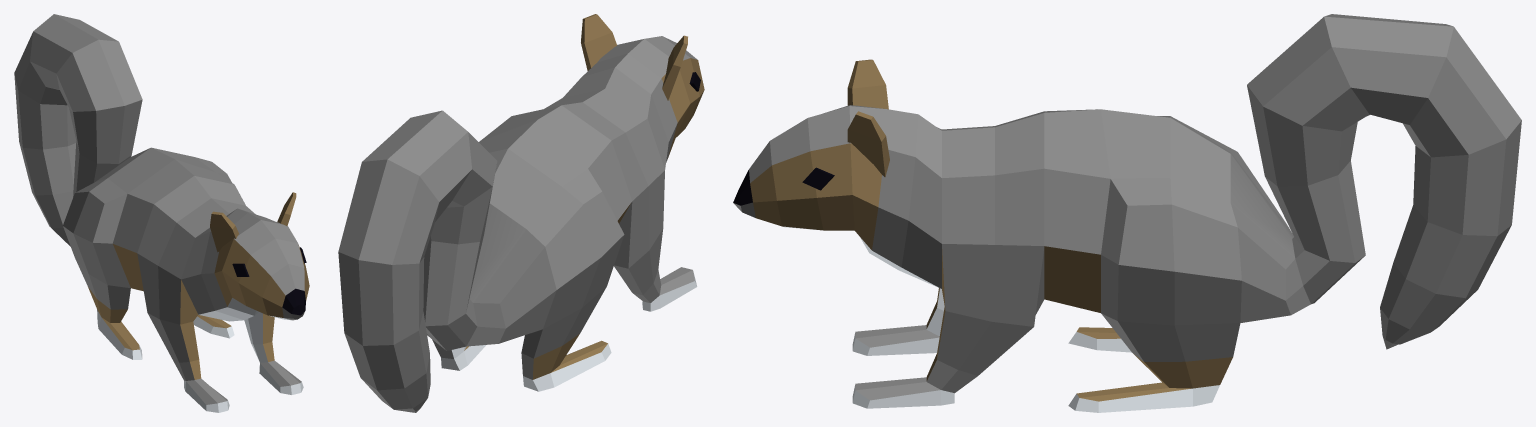
File: squirrel.glb
3 views of the same model, side by side, from view 1: azimuth 30°, elevation 25°; view 2: azimuth 150°, elevation 25°; view 3: azimuth 270°, elevation 25° (orthographic). The views are drawn at different scales.
Visible parts, largest first — view 1: node-0; view 2: node-0; view 3: node-0.
Part boxes in pixels (box(x1,y1,x2,y2)): node-0: box(14, 14, 309, 412); node-0: box(338, 14, 704, 412); node-0: box(733, 14, 1521, 412).
Size of the model in its own units: 28.21 by 43.28 by 86.43.
Materials: 1 (1 with a texture image).
